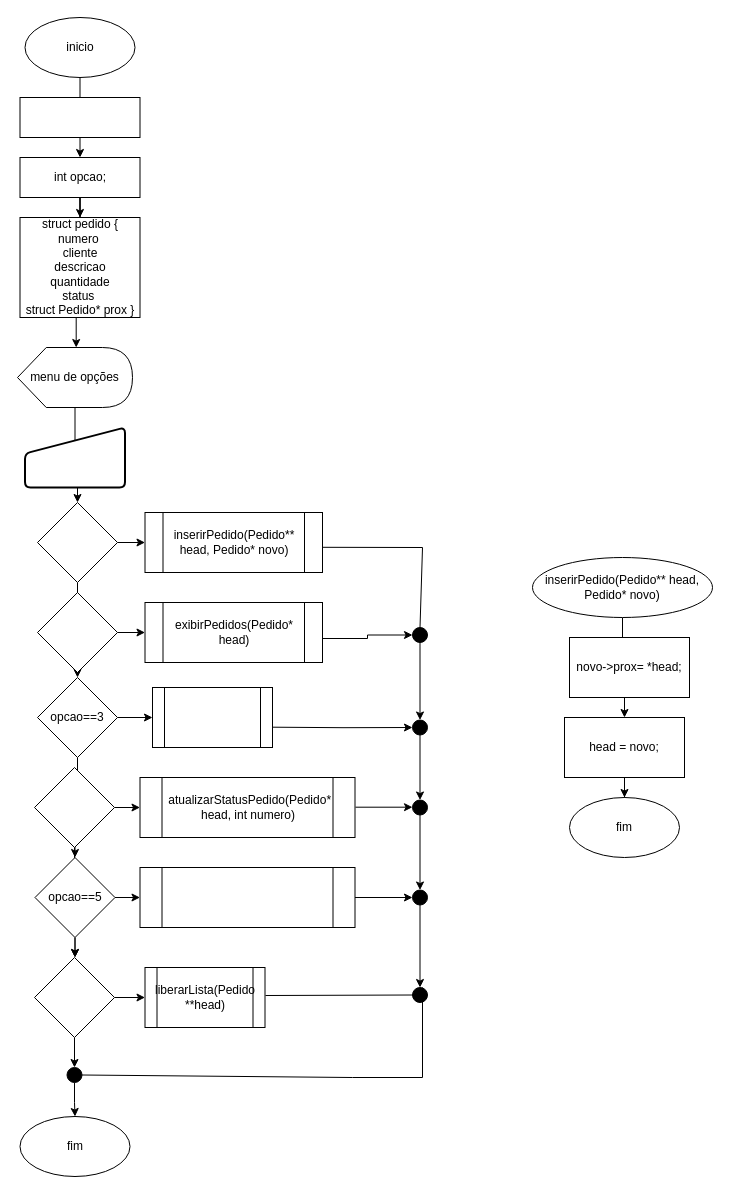
Some shapes in this 730 by 1194 pixel diagram are drawn without their labels. The centre of each missing label's shape, as x and y in pixels:
"deletarPedido(Pedido** head, int numero)" goes at point (247, 897).
"obterPedido(Pedido* head, int numero)" goes at point (212, 717).
"opcao==1" goes at point (77, 542).
"opcao==2" goes at point (77, 632).
"opcao==6" goes at point (74, 997).
"opcap==4" goes at point (74, 807).
"opção" goes at point (75, 457).
"Pedido* head = NULL;" goes at point (79, 117).
